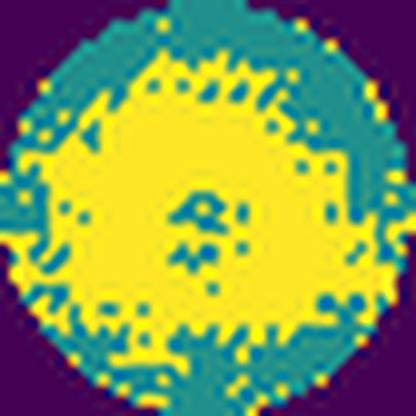Donut: (0, 45, 405, 348)
